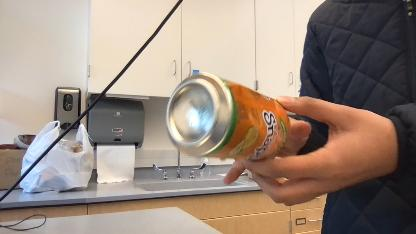Can: (165, 74, 289, 160)
